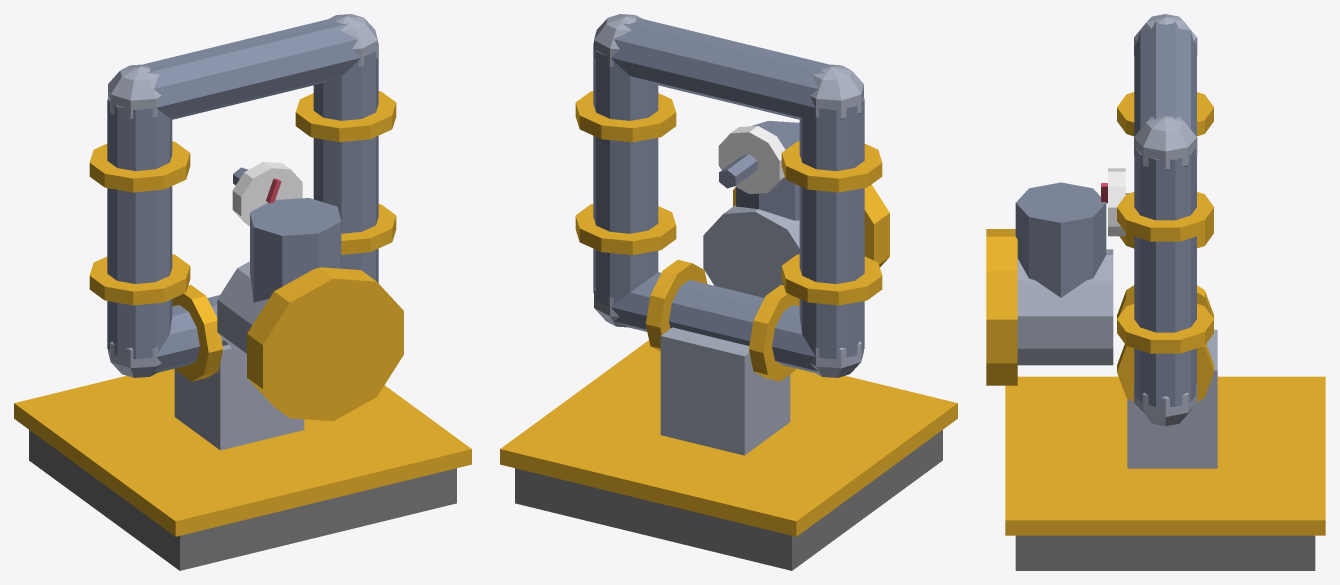
Rendered from pipe_endless.glb.
The picture shows the model from 3 angles, left to right: view 1: azimuth 30°, elevation 25°; view 2: azimuth 150°, elevation 25°; view 3: azimuth 270°, elevation 25°; orthographic projection.
Visible parts, largest first — view 1: pipe_endless; view 2: pipe_endless; view 3: pipe_endless.
Boxes of the visible parts, box(x1,y1,x2,y2) form: pipe_endless: box(14, 14, 471, 570); pipe_endless: box(500, 14, 957, 570); pipe_endless: box(986, 14, 1325, 570).
Size of the model in its own units: 1 by 1.42 by 1.
